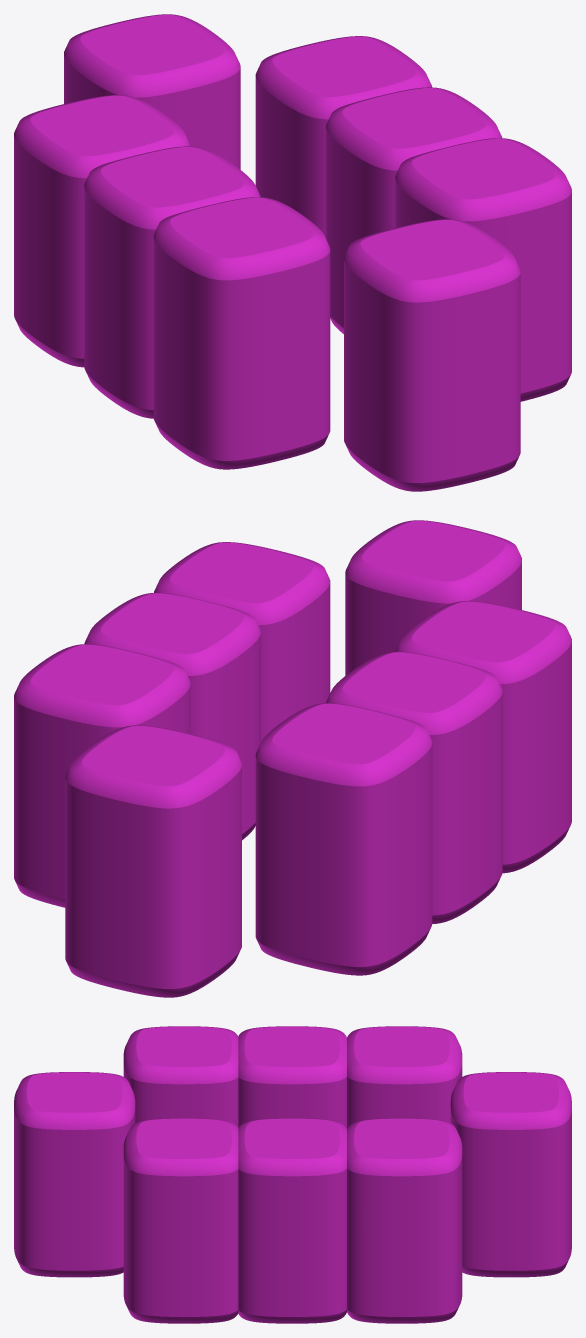
File: Letter_o_Small.fbx
3 renders of one model, top to bottom at view 1: azimuth 30°, elevation 25°; view 2: azimuth 150°, elevation 25°; view 3: azimuth 270°, elevation 25°, orthographic. The views are drawn at different scales.
Visible parts, largest first — view 1: Letter_o; view 2: Letter_o; view 3: Letter_o.
Part boxes in pixels (<box>): Letter_o: <box>14,14,571,491</box>; Letter_o: <box>14,520,571,997</box>; Letter_o: <box>14,1026,571,1323</box>.
Size of the model in its own units: 0.2619 by 0.14 by 0.4311.
